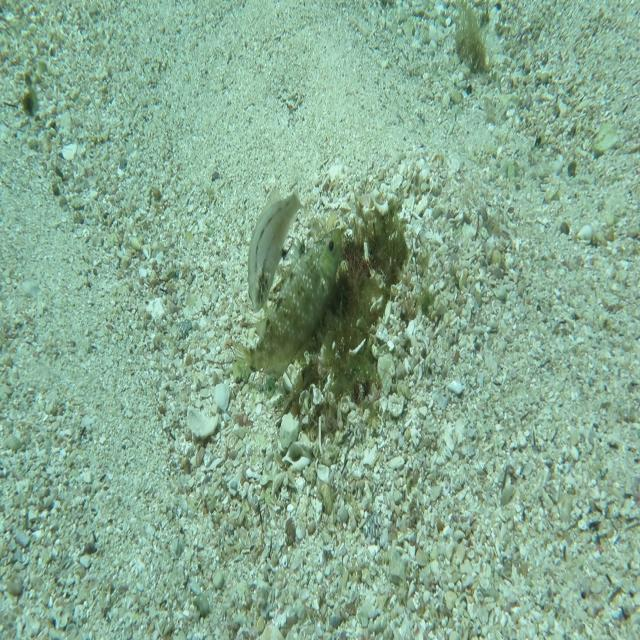BEND: (232, 223, 342, 382)
core_nest: (345, 219, 398, 275)
female: (247, 188, 309, 314)
nest: (267, 161, 427, 427)
